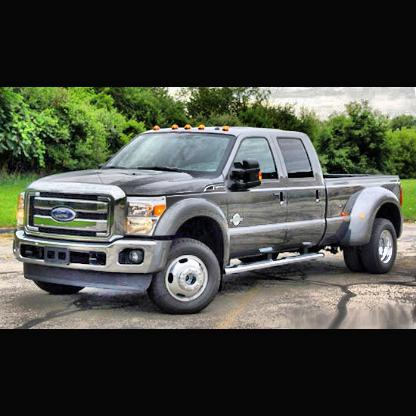Ford F-450 Super Duty Crew Cab 2012: (14, 124, 406, 315)
